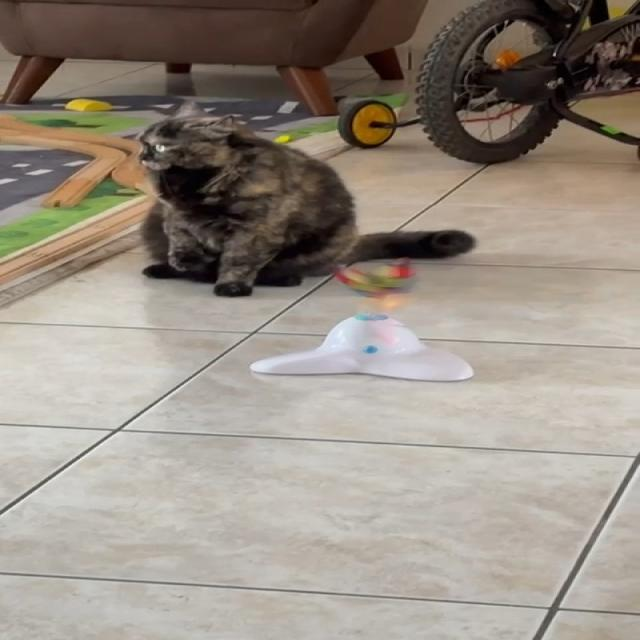authorized: (133, 98, 476, 297)
